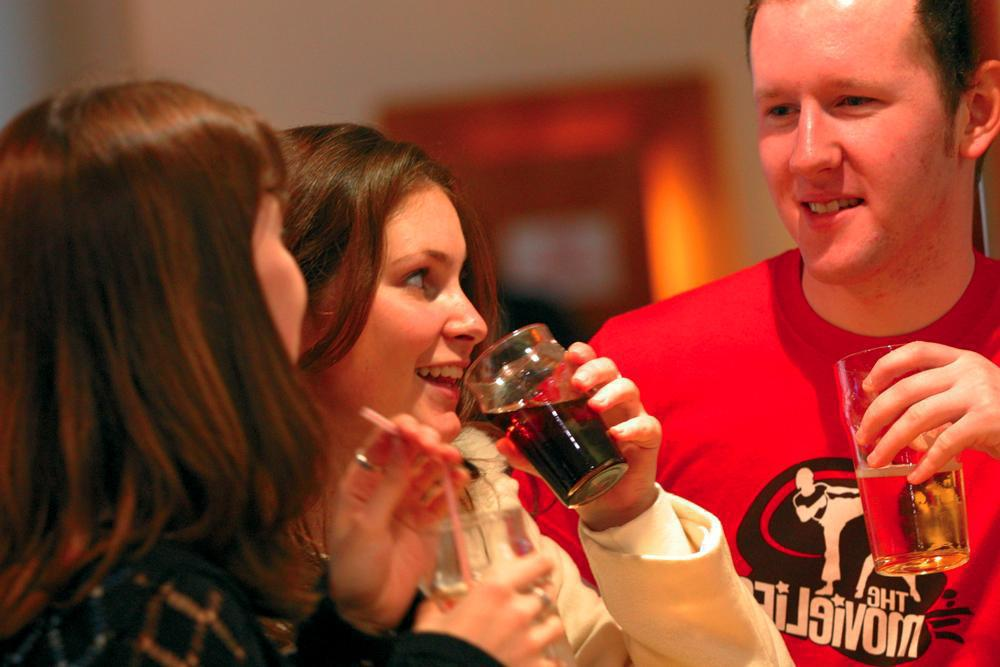Drunk: (745, 2, 939, 279), (363, 192, 481, 432)
